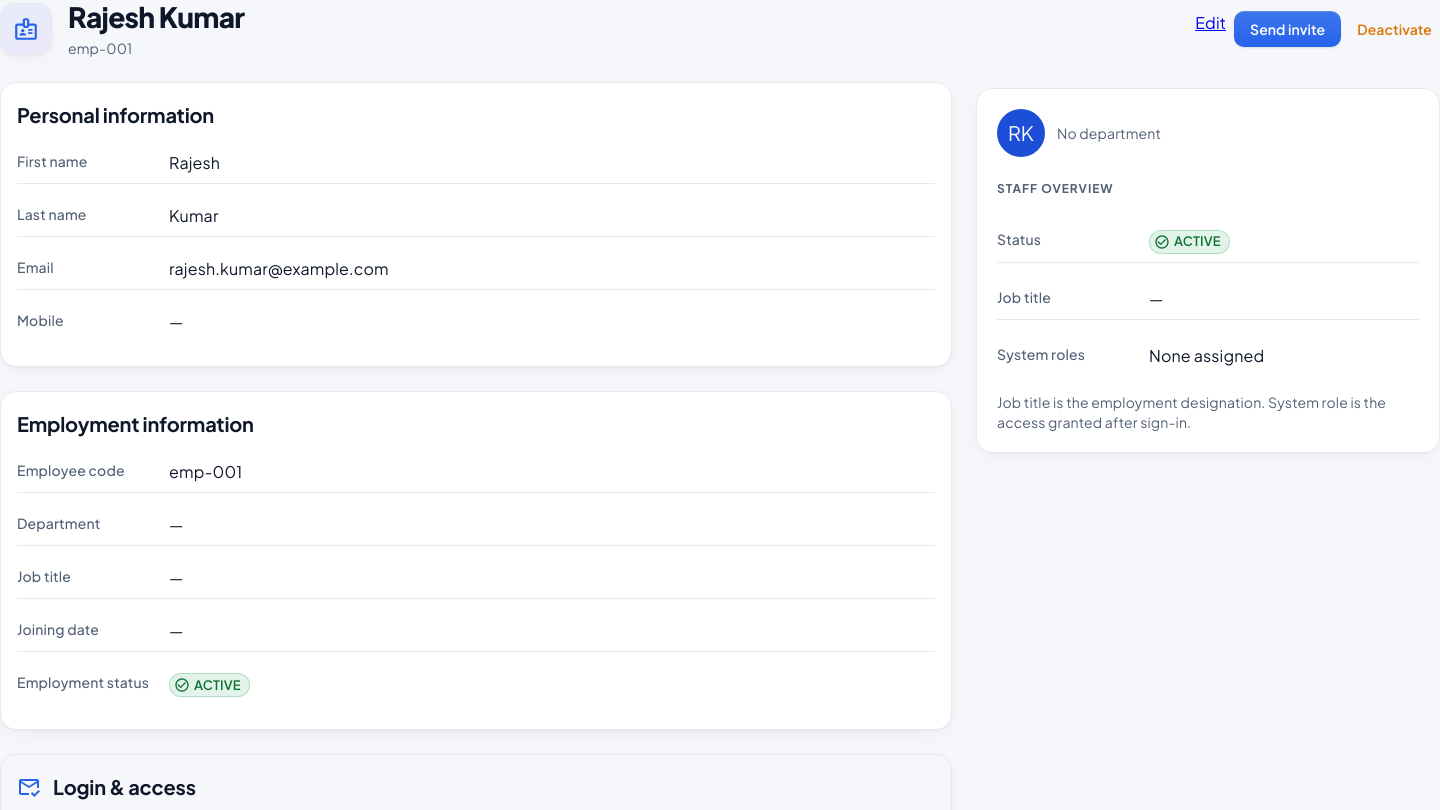
Test case: StaffDetailPage › shows role loading error state in the dialog
The width and height of the screenshot is (1440, 810).
Click the button "Send invite": x=1288, y=29 [1234,10,1341,47]
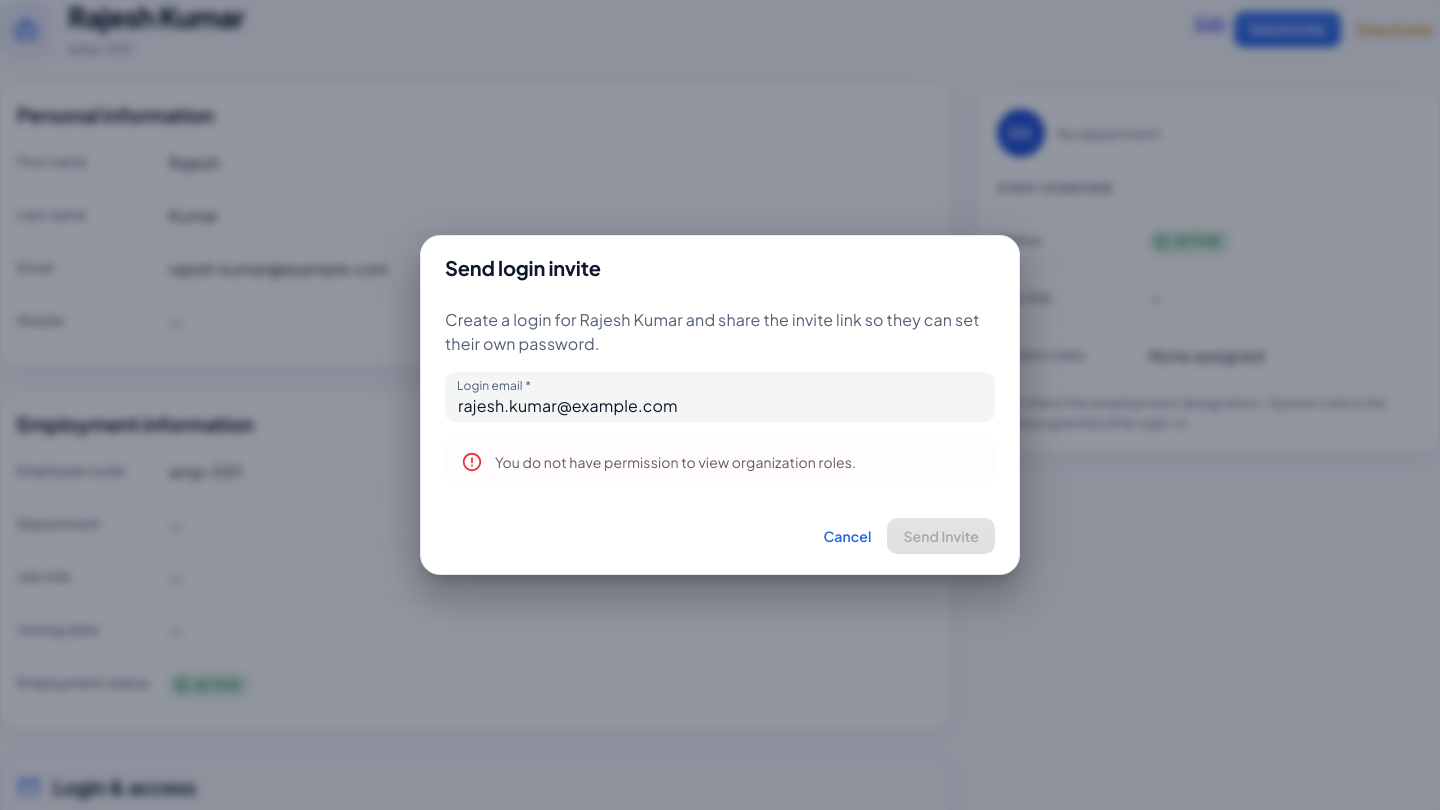
Result: the text "You do not have permission to view organization roles." is shown at [495,453,856,471]
